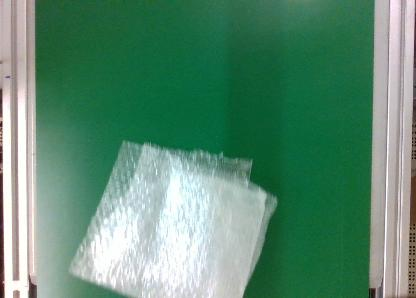Others: (66, 133, 277, 298)
